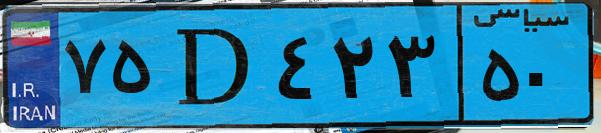0: (525, 38, 570, 115)
2: (330, 28, 385, 110)
3: (385, 28, 445, 110)
4: (270, 28, 330, 110)
5: (475, 38, 525, 113), (110, 28, 158, 98)
7: (57, 26, 110, 100)
D: (158, 12, 270, 120)
